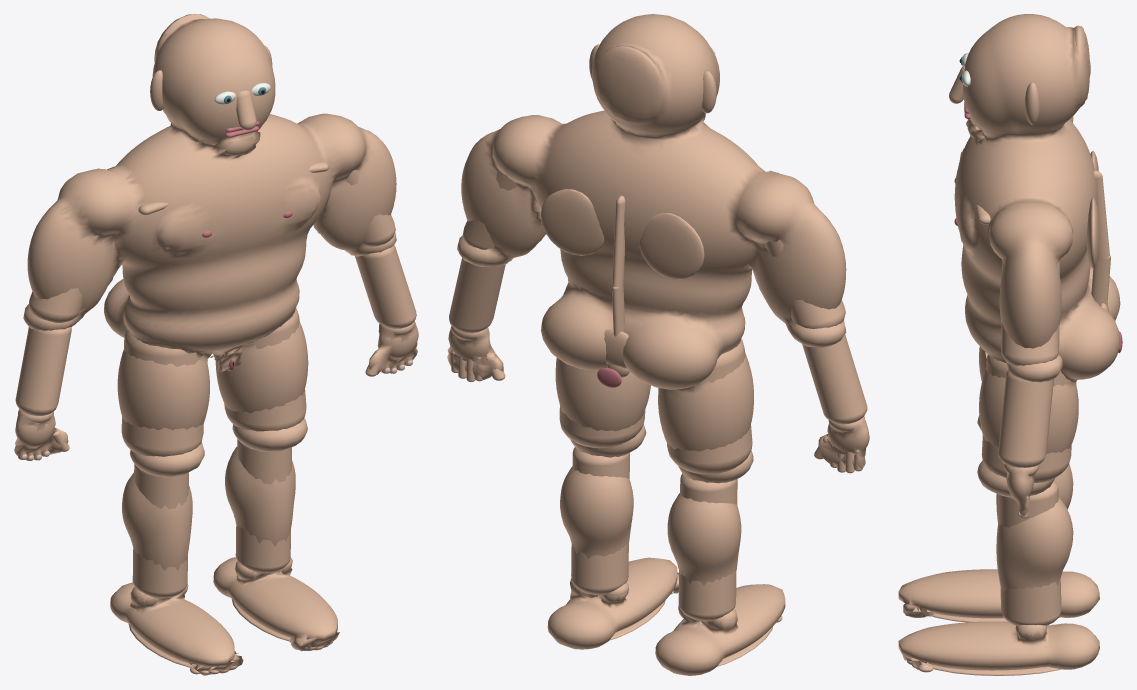
Rendered from body-kleinkind-maennlich-v2.glb.
The picture shows the model from 3 angles, left to right: view 1: azimuth 30°, elevation 25°; view 2: azimuth 150°, elevation 25°; view 3: azimuth 270°, elevation 25°; orthographic projection. The views are drawn at different scales.
Parts seen in each view (by area): view 1: zone__visual-surface-body-kleinkind-maennlich, zone__surface-forearm-left, zone__surface-thigh-left, zone__surface-lower-leg-right, zone__surface-lower-leg-left, zone__surface-forearm-right, zone__surface-thigh-right, zone__surface-upper-arm-left, zone__surface-upper-arm-right, zone__surface-nose; view 2: zone__visual-surface-body-kleinkind-maennlich, zone__surface-forearm-left, zone__surface-lower-leg-left, zone__surface-lower-leg-right, zone__surface-scapula-left, zone__surface-scapula-right, zone__surface-forearm-right, zone__surface-thigh-left, zone__surface-thigh-right, zone__surface-upper-arm-left, zone__surface-thoracic-spine, zone__surface-upper-arm-right (+1 smaller); view 3: zone__visual-surface-body-kleinkind-maennlich, zone__surface-forearm-right, zone__surface-lower-leg-right, zone__surface-thigh-right, zone__surface-upper-arm-right, zone__surface-thoracic-spine, zone__surface-lumbar-spine, zone__surface-scapula-right, zone__surface-sole-right, zone__surface-ear-right.
Part boxes in pixels (x1=…): zone__visual-surface-body-kleinkind-maennlich: x1=14, y1=14, x2=418, y2=675; zone__surface-forearm-left: x1=15, y1=327, x2=71, y2=415; zone__surface-thigh-left: x1=121, y1=330, x2=203, y2=456; zone__surface-lower-leg-right: x1=235, y1=439, x2=291, y2=573; zone__surface-lower-leg-left: x1=132, y1=464, x2=188, y2=598; zone__surface-forearm-right: x1=355, y1=245, x2=416, y2=328; zone__surface-thigh-right: x1=224, y1=307, x2=306, y2=431; zone__surface-upper-arm-left: x1=29, y1=235, x2=102, y2=322; zone__surface-upper-arm-right: x1=346, y1=169, x2=395, y2=246; zone__surface-nose: x1=236, y1=90, x2=256, y2=130; zone__visual-surface-body-kleinkind-maennlich: x1=447, y1=14, x2=869, y2=675; zone__surface-forearm-left: x1=802, y1=334, x2=867, y2=424; zone__surface-lower-leg-left: x1=678, y1=473, x2=737, y2=621; zone__surface-lower-leg-right: x1=571, y1=447, x2=629, y2=595; zone__surface-scapula-left: x1=639, y1=212, x2=704, y2=279; zone__surface-scapula-right: x1=540, y1=189, x2=604, y2=255; zone__surface-forearm-right: x1=449, y1=258, x2=505, y2=333; zone__surface-thigh-left: x1=667, y1=339, x2=752, y2=474; zone__surface-thigh-right: x1=559, y1=406, x2=645, y2=448; zone__surface-upper-arm-left: x1=764, y1=239, x2=845, y2=328; zone__surface-thoracic-spine: x1=612, y1=195, x2=625, y2=291; zone__surface-upper-arm-right: x1=462, y1=171, x2=516, y2=249; zone__visual-surface-body-kleinkind-maennlich: x1=898, y1=14, x2=1120, y2=670; zone__surface-forearm-right: x1=998, y1=369, x2=1053, y2=467; zone__surface-lower-leg-right: x1=998, y1=481, x2=1061, y2=625; zone__surface-thigh-right: x1=981, y1=354, x2=1071, y2=482; zone__surface-upper-arm-right: x1=1001, y1=259, x2=1060, y2=365; zone__surface-thoracic-spine: x1=1093, y1=170, x2=1109, y2=262; zone__surface-lumbar-spine: x1=1091, y1=255, x2=1110, y2=305; zone__surface-scapula-right: x1=1086, y1=198, x2=1099, y2=268; zone__surface-sole-right: x1=929, y1=664, x2=1061, y2=675; zone__surface-ear-right: x1=1024, y1=82, x2=1040, y2=124.
Size of the model in its own units: 0.7036 by 1 by 0.3286.
